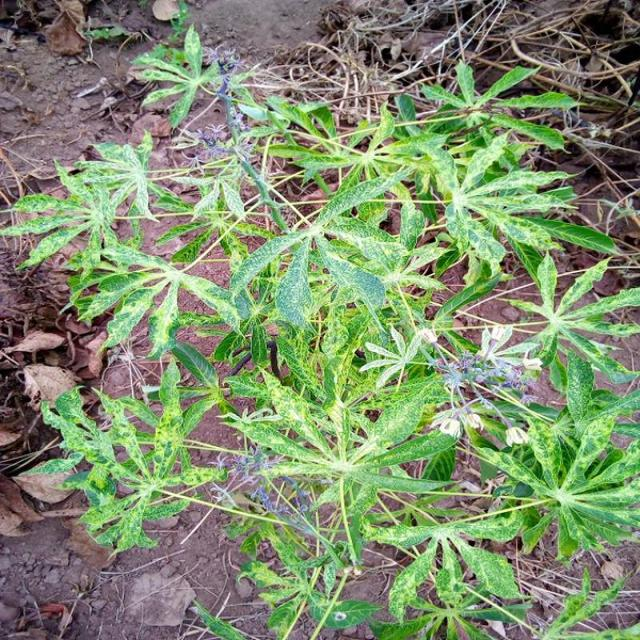cassava leaf: (5, 19, 638, 636)
